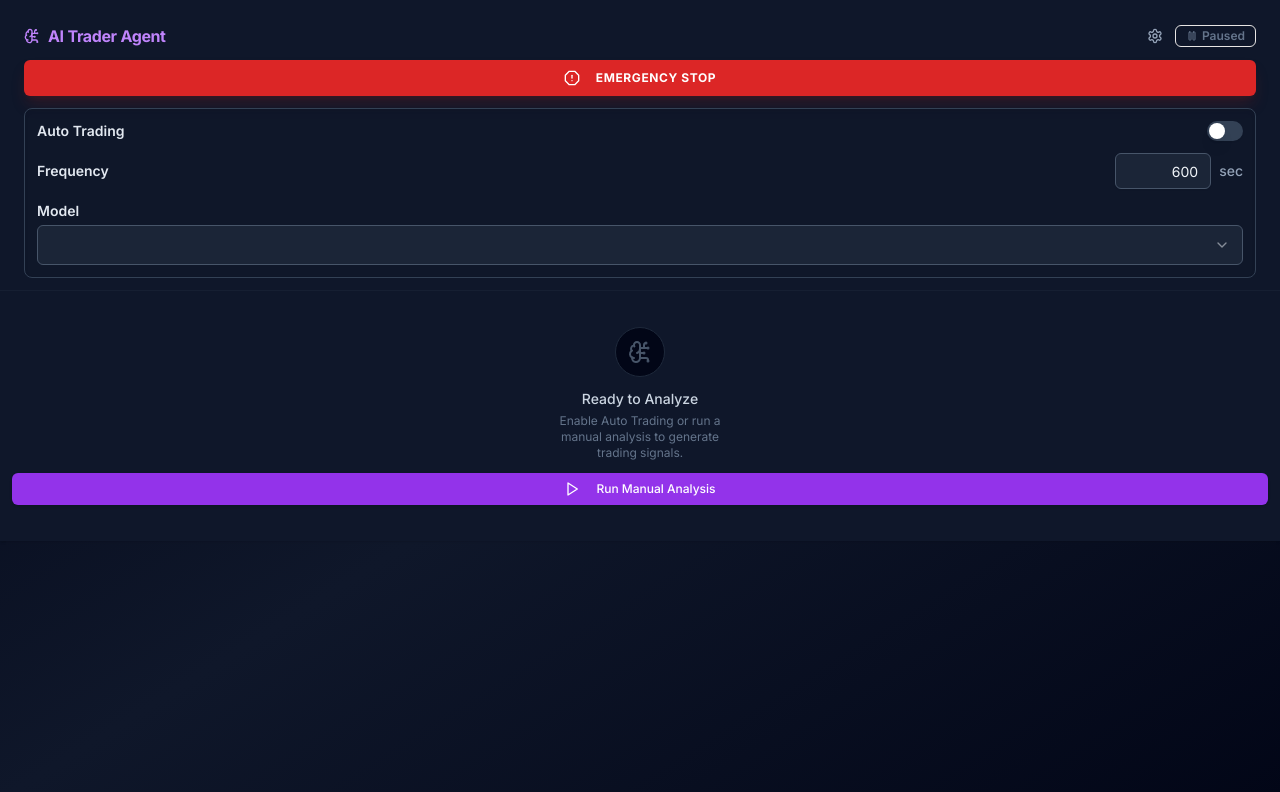
Test case: AIAdvisor › uses the persisted server auto-trader config instead of a stale local preset label
This screenshot has width=1280, height=792.
What coordinates should you click on to do the following:
click the button named "open agent configuration"
I would click on:
 (1155, 36)
Its box is [1143,24,1167,48].
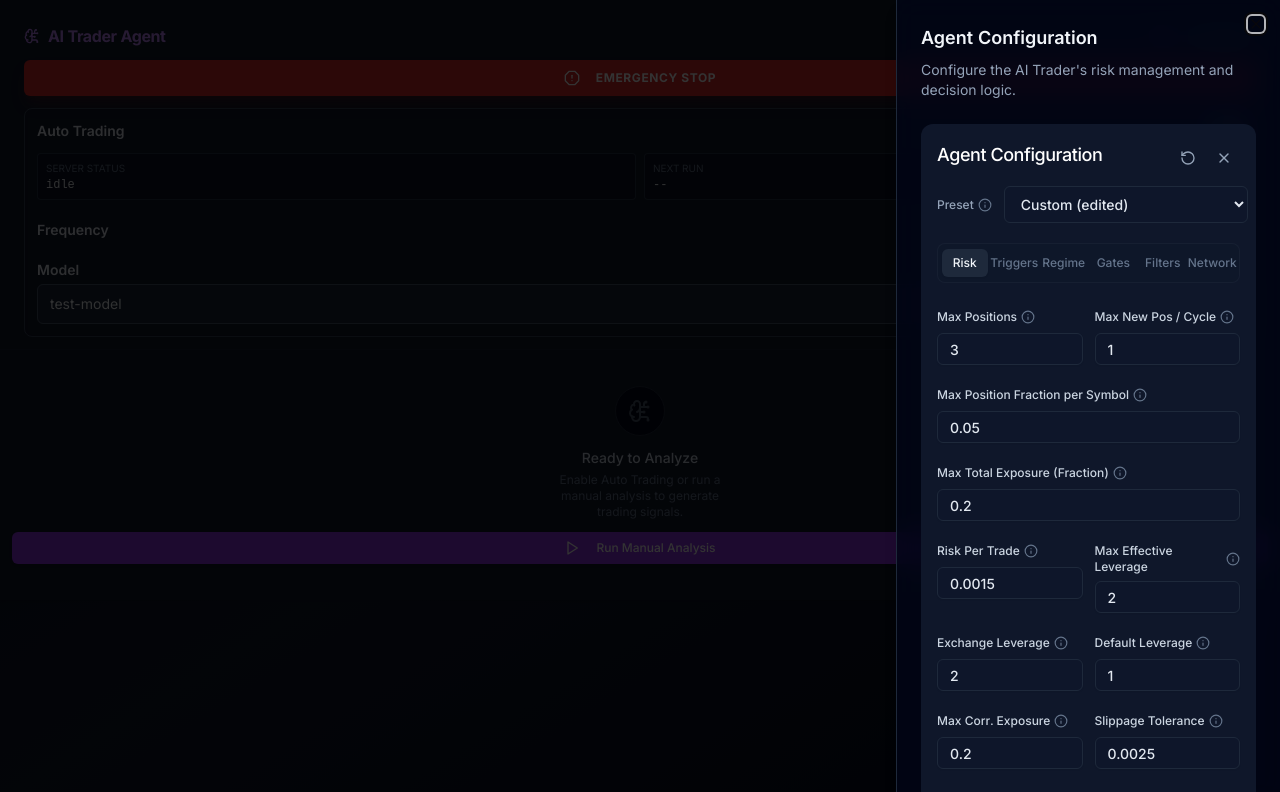
Now the dropdown showing "Custom (edited)" shows "Custom (edited)", box [1004,186,1248,223]
